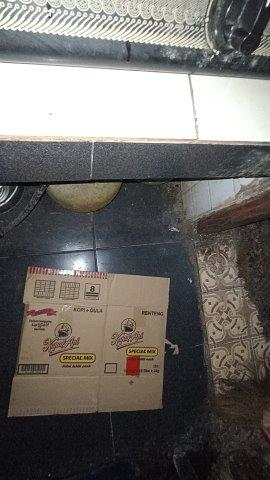kardus: (10, 268, 169, 416)
